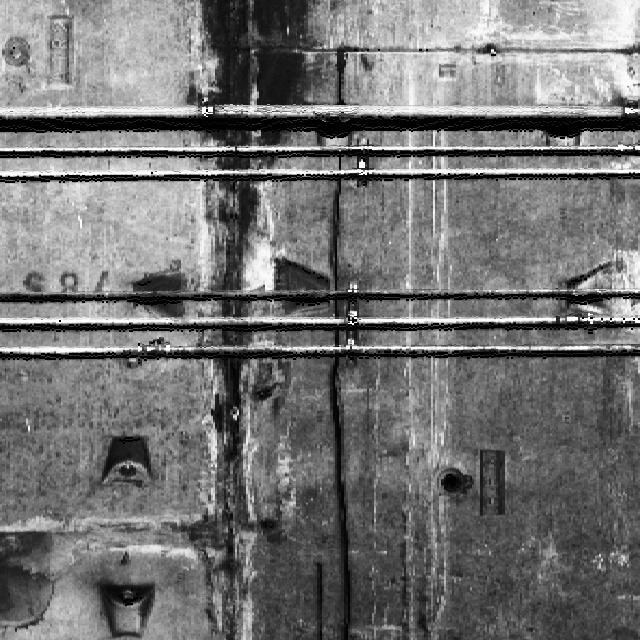leakage: (178, 0, 317, 639)
